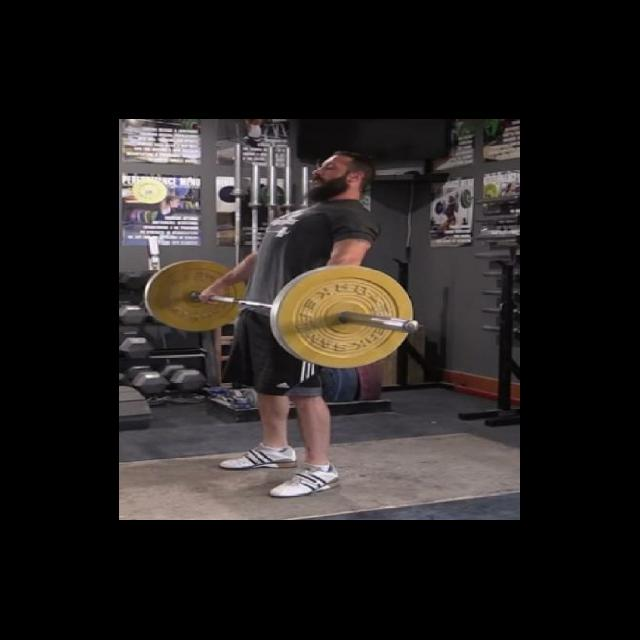barbell: (267, 262, 419, 371)
